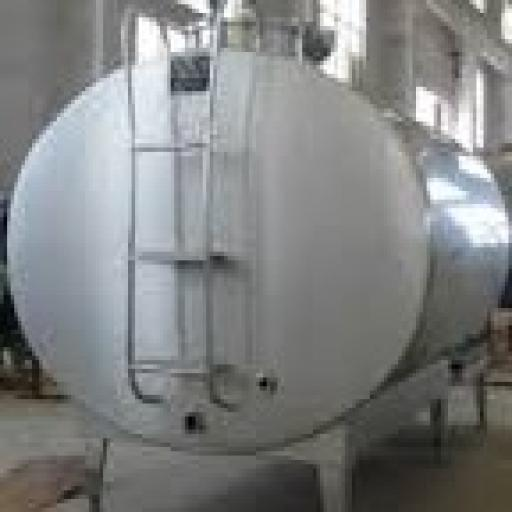silo: (8, 41, 508, 508)
